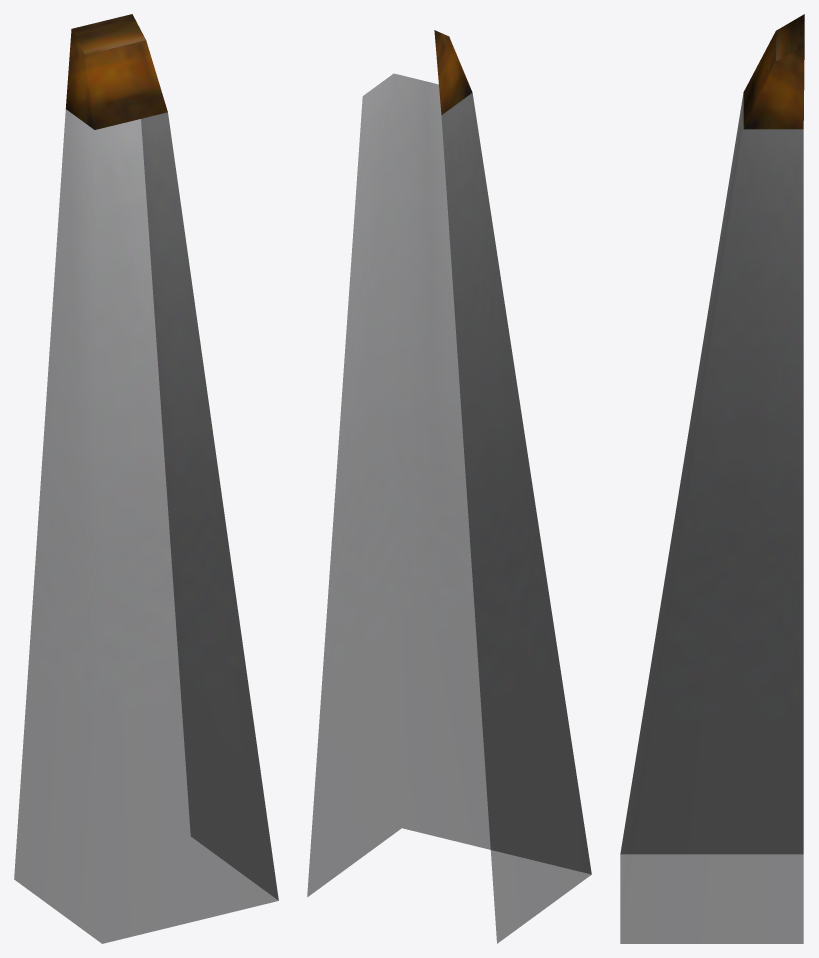
The model's file is prop-069.glb.
The picture shows the model from 3 angles, left to right: view 1: azimuth 30°, elevation 25°; view 2: azimuth 150°, elevation 25°; view 3: azimuth 270°, elevation 25°; orthographic projection. The views are drawn at different scales.
Visible parts, largest first — view 1: root; view 2: root; view 3: root.
Boxes of the visible parts, box(x1,y1,x2,y2) form: root: box(14, 14, 278, 943); root: box(307, 30, 591, 943); root: box(620, 14, 804, 943).
Bounding box in the file's own units: 0.4473 × 2.02 × 0.3887.
2 materials, 2 textured.
